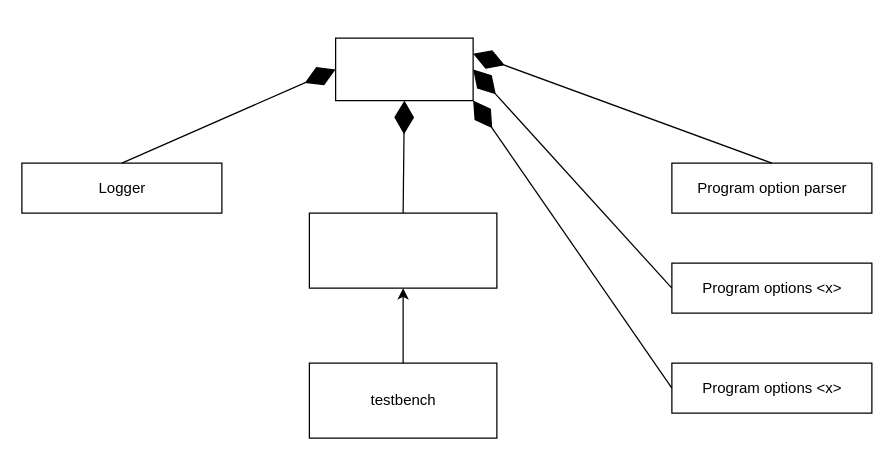
This 894x460 diagram has some shape labels left out. Here are the shapes that lost their labels. From the top down, the centre of each, then its label:
(403,69): Main
(402,250): UART16550 testbench
